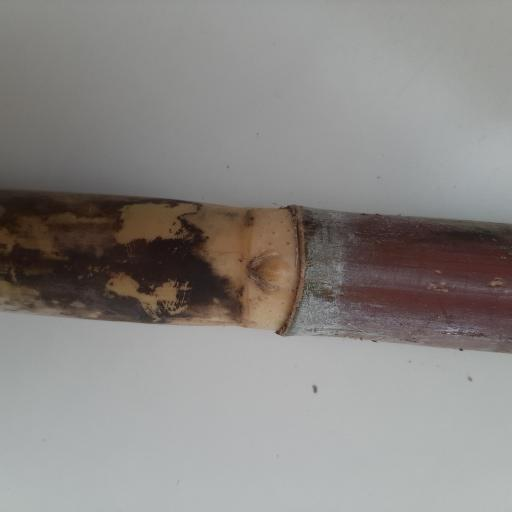Bud: (249, 252, 297, 293)
